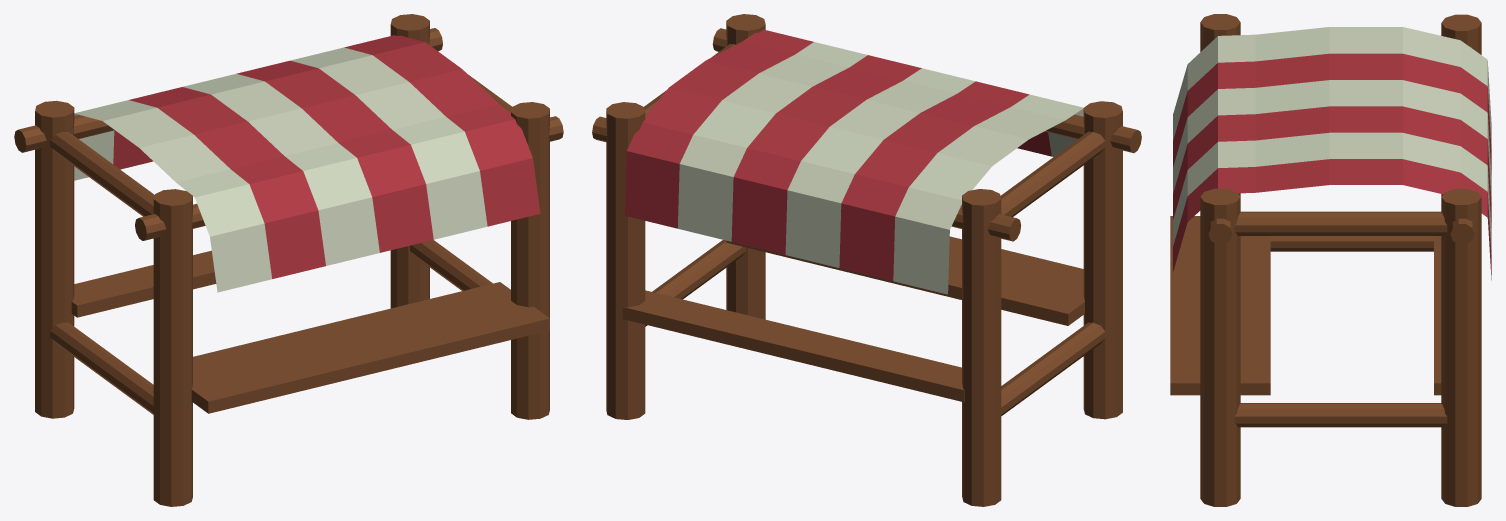
The model's file is barraca1.fbx.
The picture shows the model from 3 angles, left to right: view 1: azimuth 30°, elevation 25°; view 2: azimuth 150°, elevation 25°; view 3: azimuth 270°, elevation 25°; orthographic projection.
Visible parts, largest first — view 1: Plane; view 2: Plane; view 3: Plane.
Part boxes in pixels (x1,y1,x2,y2): Plane: (14, 14, 563, 506); Plane: (592, 14, 1141, 506); Plane: (1170, 14, 1491, 506).
Bounding box in the file's own units: 2403 × 1686 × 1598.
